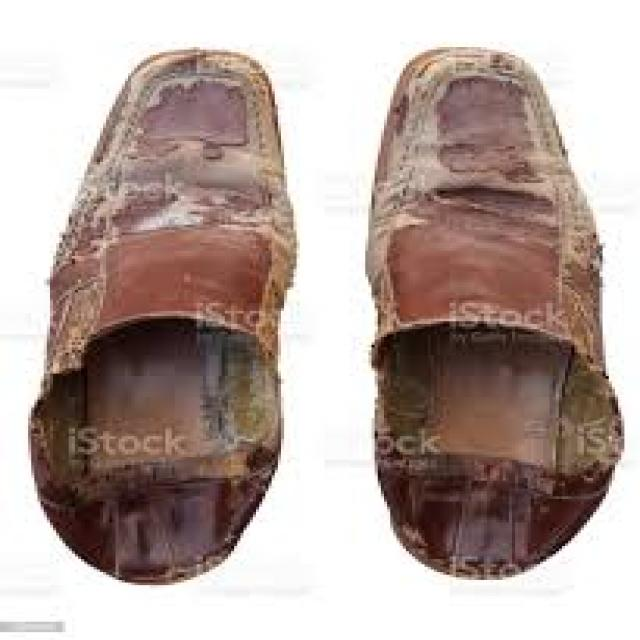other: (31, 50, 297, 584), (368, 47, 624, 580)
